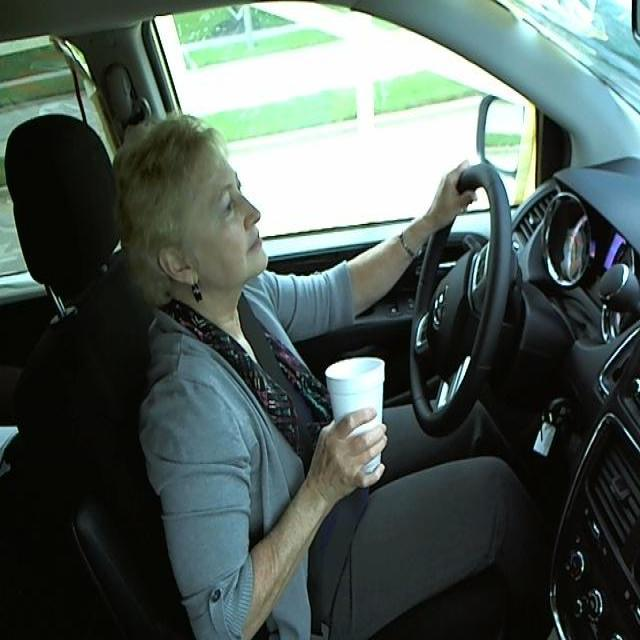Seatbelt: (322, 356, 388, 475)
